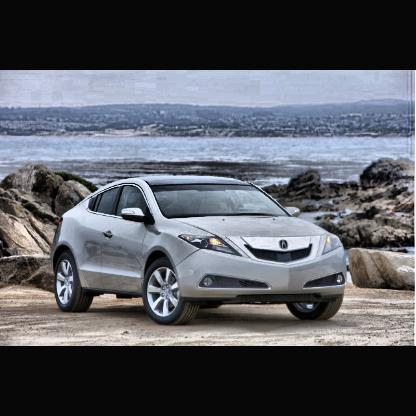Acura ZDX Hatchback 2012: (52, 176, 351, 325)
